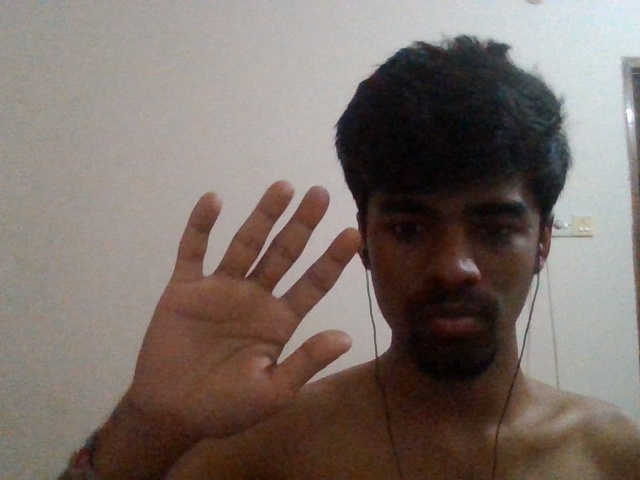Hello: (126, 176, 369, 425)
